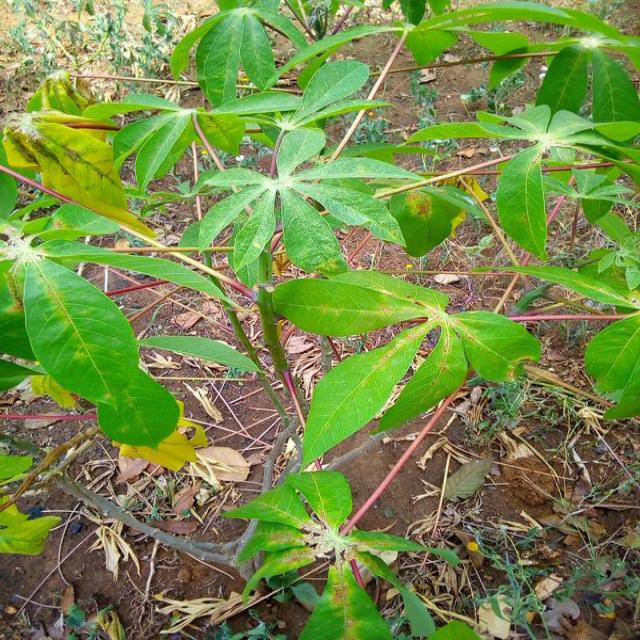cassava leaf: (22, 255, 180, 449)
